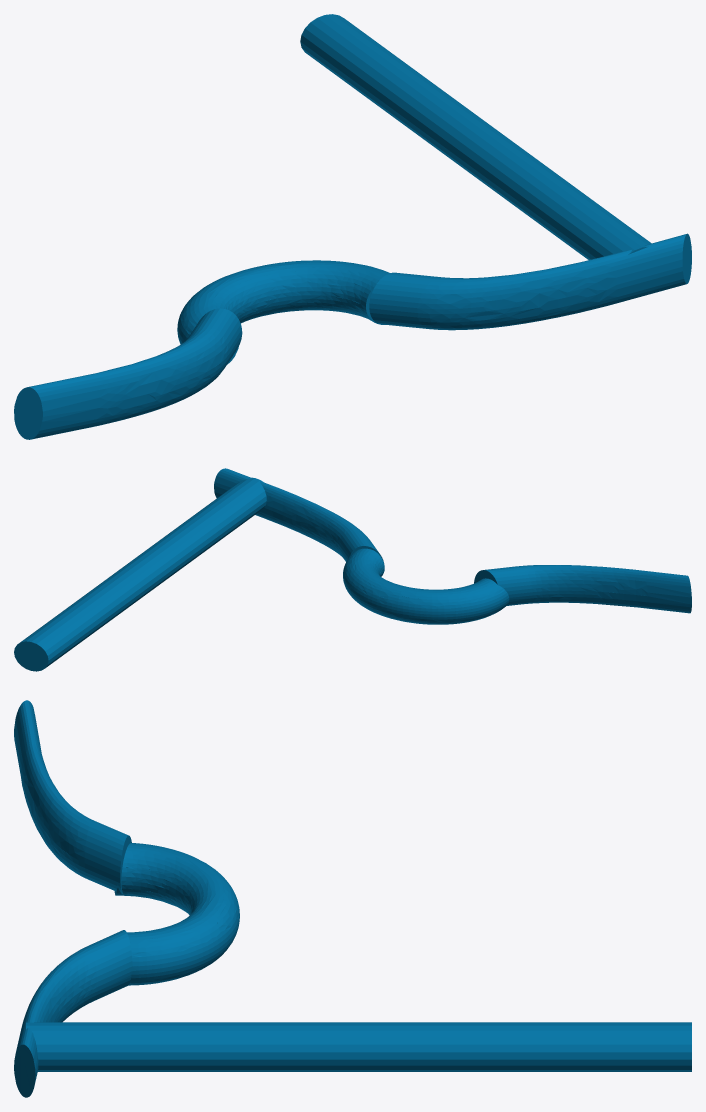
Rendered from tinker.obj.
3 renders of one model, top to bottom at view 1: azimuth 30°, elevation 25°; view 2: azimuth 150°, elevation 25°; view 3: azimuth 270°, elevation 25°, orthographic. The views are drawn at different scales.
Parts seen in each view (by area): view 1: obj_0; view 2: obj_0; view 3: obj_0.
Boxes of the visible parts, left/top/right/bottom form: obj_0: left=14, top=14, right=691, bottom=439; obj_0: left=14, top=468, right=691, bottom=671; obj_0: left=14, top=700, right=691, bottom=1097.
Size of the model in its own units: 69 by 7 by 57.
